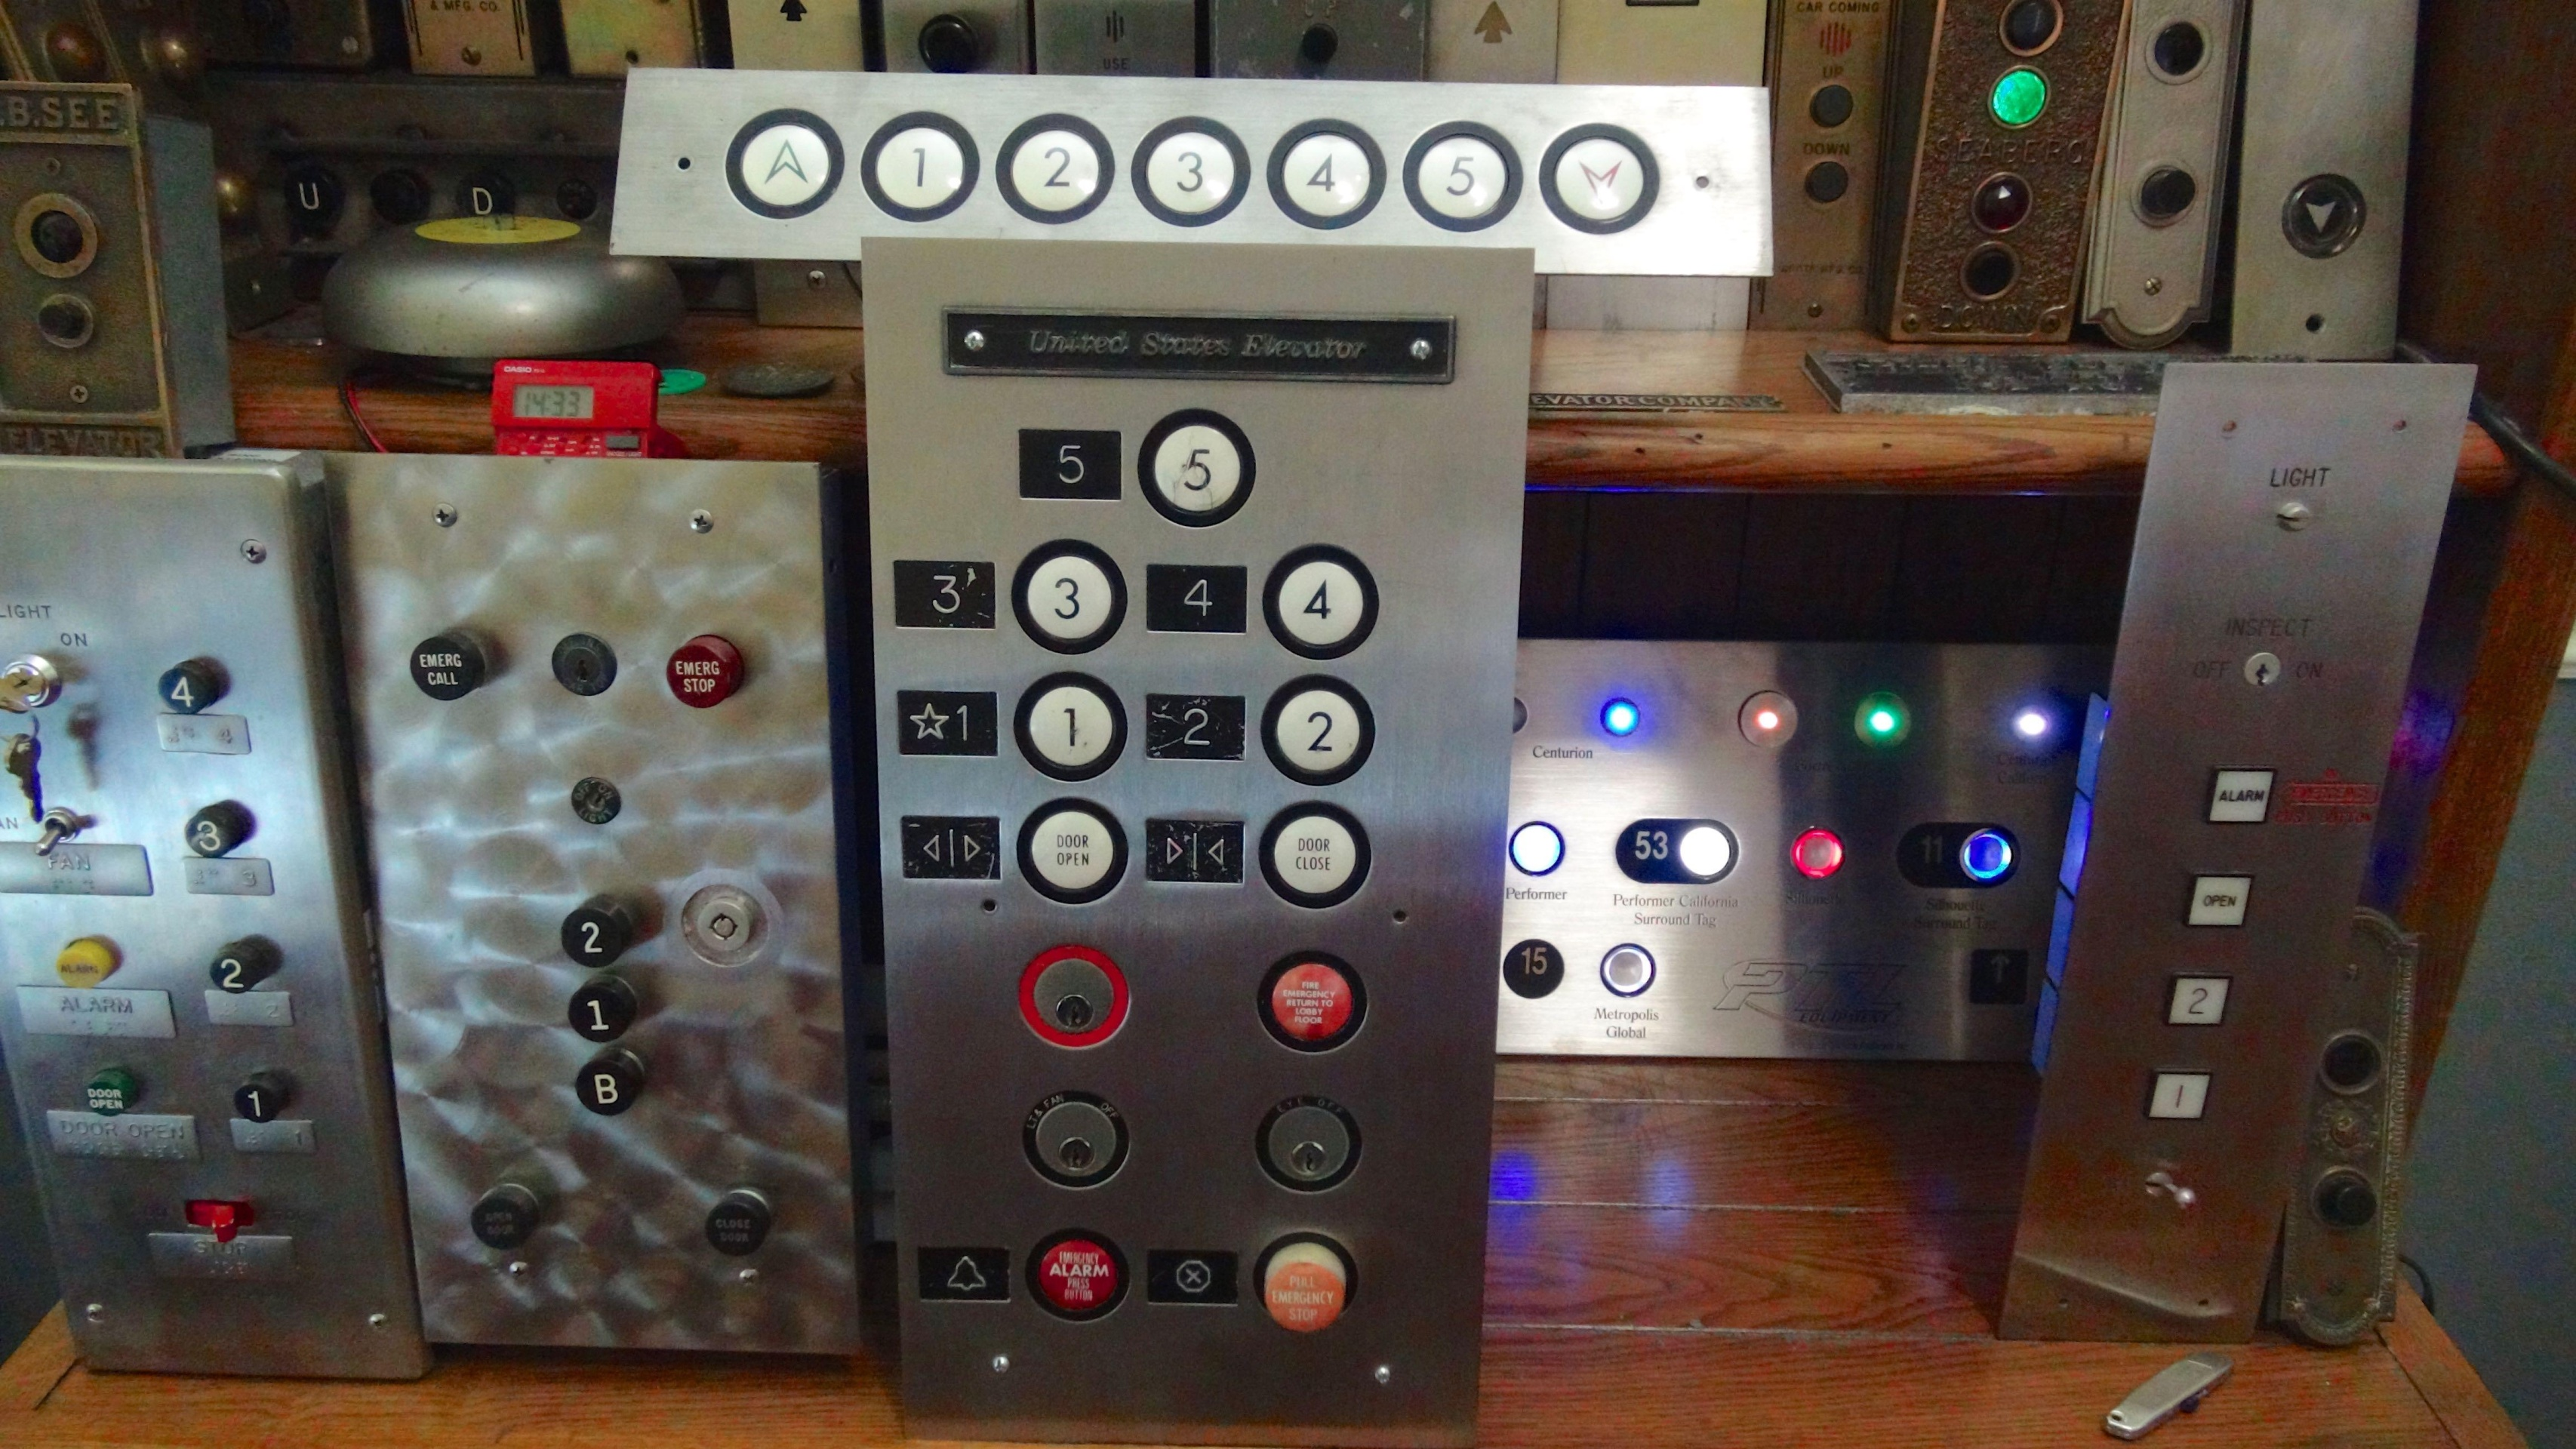1: (862, 108, 984, 226), (1014, 669, 1129, 787), (566, 973, 642, 1046), (1999, 0, 2065, 62), (2144, 1069, 2215, 1123), (232, 1070, 294, 1127)
11: (1891, 817, 2019, 892)
15: (1500, 934, 1569, 1001)
2: (994, 104, 1120, 225), (1258, 669, 1378, 789), (1143, 690, 1249, 764), (557, 895, 632, 971), (209, 932, 281, 1000), (2160, 970, 2236, 1030)
3: (1005, 534, 1131, 660), (1132, 111, 1251, 230), (890, 556, 1000, 637), (184, 796, 258, 860)
4: (1261, 540, 1384, 663), (1263, 111, 1389, 230), (1143, 561, 1251, 637), (156, 656, 228, 718)
5: (1134, 405, 1258, 534), (1401, 115, 1527, 234), (1016, 425, 1125, 506)
53: (1610, 812, 1743, 886)
B: (577, 1047, 642, 1120)
alarm: (915, 1246, 1014, 1307)
blur: (1967, 172, 2036, 235)
close: (1139, 814, 1247, 888)
down: (1539, 119, 1665, 241), (2277, 170, 2367, 264)
empty: (16, 193, 101, 283), (2130, 152, 2201, 234), (2144, 14, 2213, 88), (915, 11, 985, 78), (1953, 237, 2022, 304), (1987, 62, 2051, 134), (34, 285, 97, 357), (1507, 817, 1569, 879), (1787, 823, 1845, 879), (1599, 939, 1656, 998), (1801, 156, 1852, 205), (1810, 83, 1859, 133), (1297, 19, 1341, 73)
indicator: (1736, 690, 1801, 750), (1851, 688, 1911, 750), (1599, 692, 1642, 741), (2010, 699, 2054, 745)
keyhole: (1017, 939, 1134, 1054), (674, 863, 784, 978), (1023, 1090, 1131, 1192), (1254, 1095, 1364, 1192), (0, 637, 65, 725), (552, 632, 617, 697), (2236, 635, 2293, 701), (571, 775, 623, 828)
open: (899, 812, 1003, 885)
s1: (895, 688, 1001, 757)
stop: (1146, 1246, 1242, 1311)
switch: (2143, 1166, 2201, 1217), (35, 805, 83, 860)
text: (1253, 1230, 1364, 1338), (702, 1187, 775, 1260), (469, 1187, 543, 1253)
text_CALL: (409, 630, 485, 702)
text_alarm: (1256, 947, 1369, 1056), (1028, 1226, 1131, 1329), (2204, 766, 2277, 826), (50, 934, 124, 993)
text_close: (1256, 800, 1373, 915)
text_open: (1017, 798, 1131, 908), (2180, 870, 2258, 931), (81, 1069, 138, 1122)
text_stop: (663, 635, 745, 711)
up: (724, 108, 849, 219), (1964, 945, 2029, 1008)
